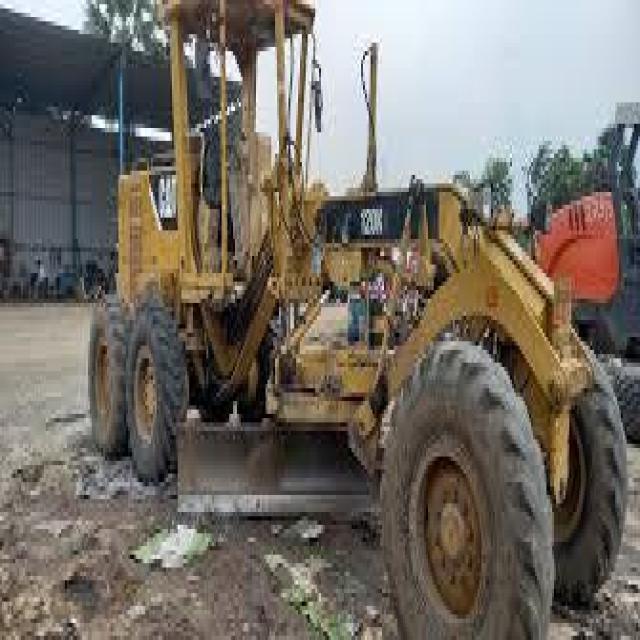buldozerpayloadergrader: (77, 13, 630, 636)
